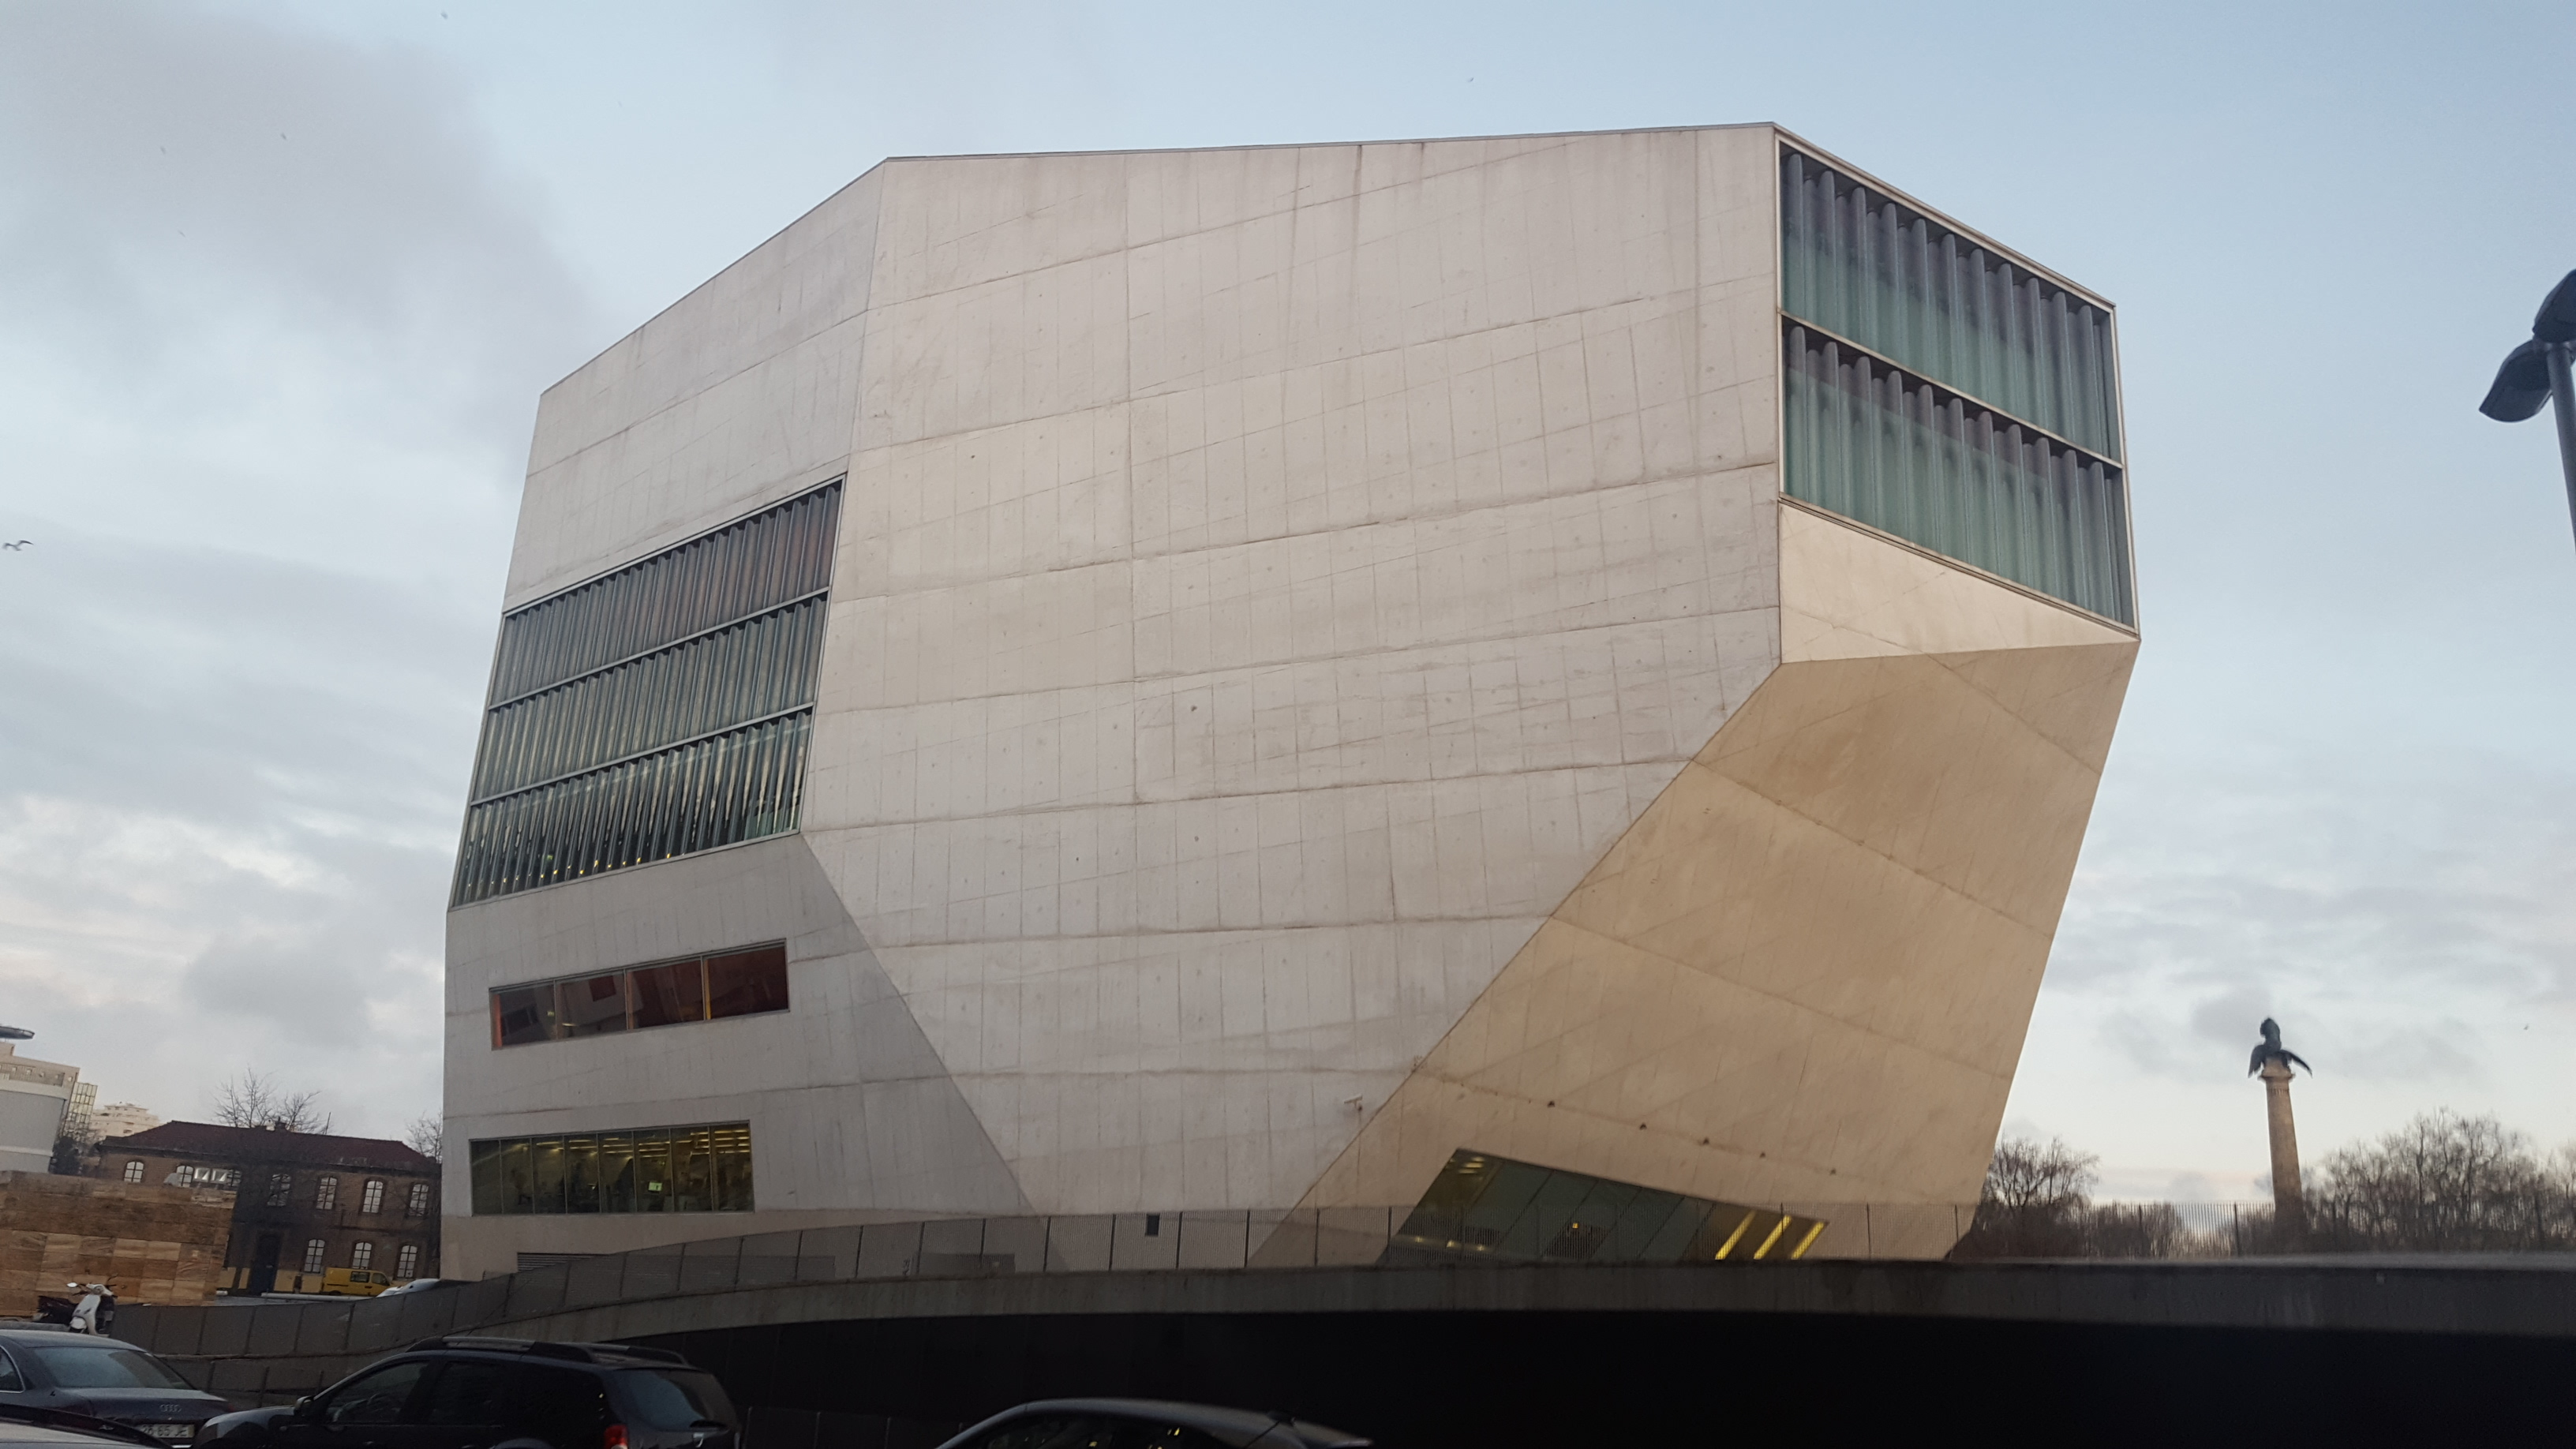musica: (439, 126, 1732, 1161)
